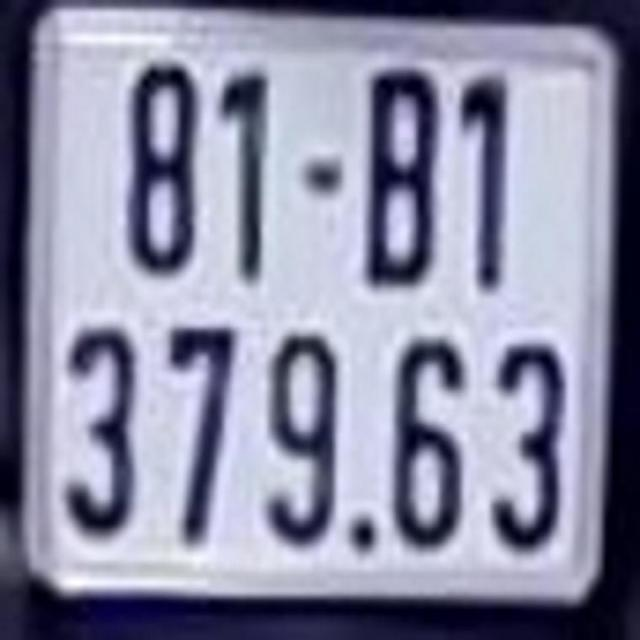1: (208, 62, 280, 284), (454, 64, 506, 292)
3: (487, 332, 565, 550), (63, 319, 141, 536)
6: (392, 329, 467, 546)
7: (164, 317, 237, 548)
8: (118, 54, 200, 276)
9: (258, 329, 342, 546)
B: (362, 64, 437, 289)
